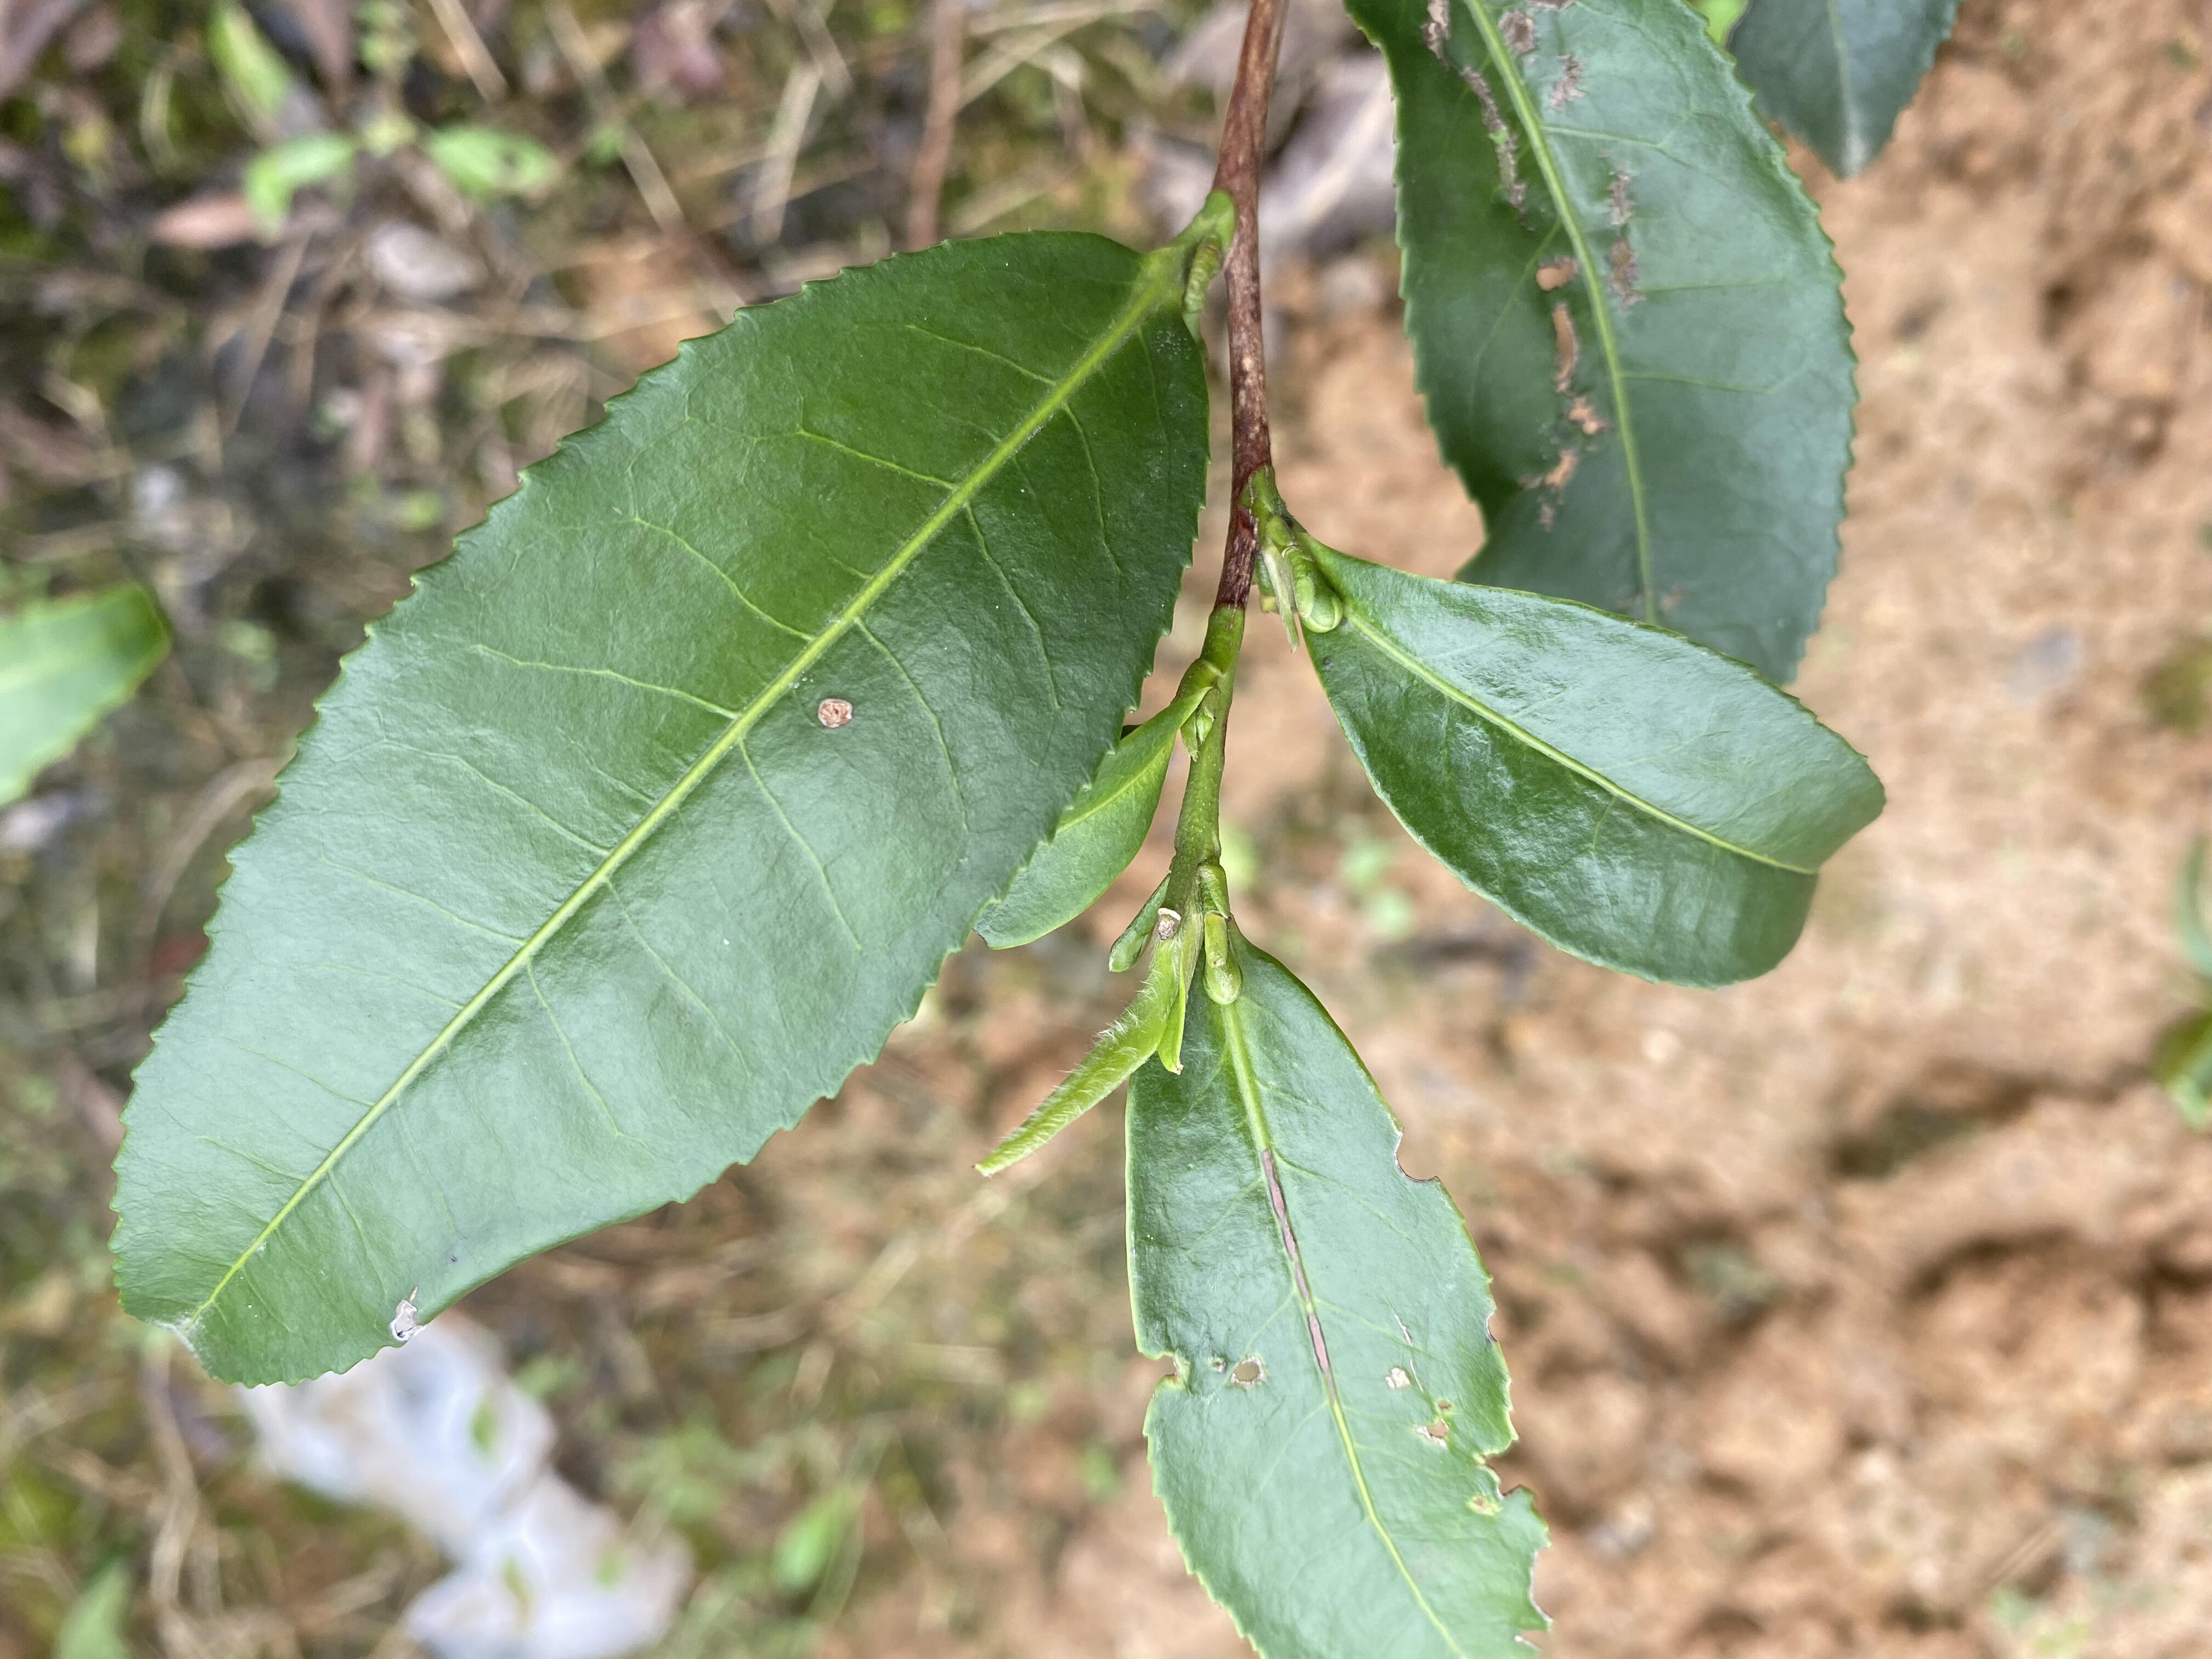chihuo_high: (1338, 2, 1864, 694), (1122, 950, 1555, 1656)
healthy: (1301, 540, 1885, 993)
tanju_low: (106, 230, 1209, 1387)
